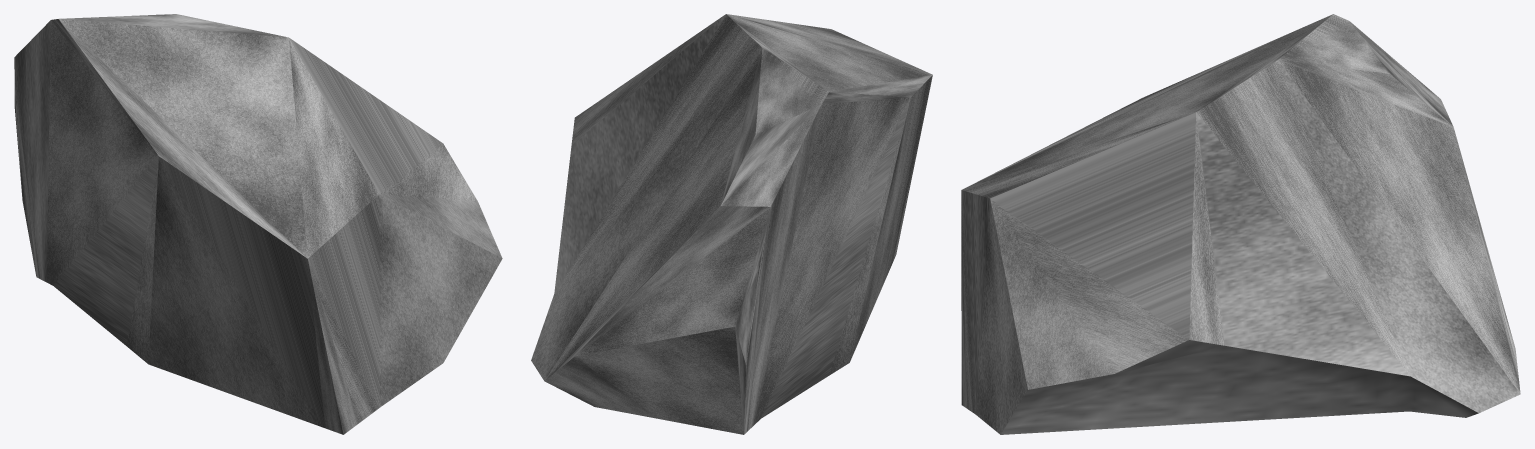
Rendered from body_cell_035.fbx.
The picture shows the model from 3 angles, left to right: view 1: azimuth 30°, elevation 25°; view 2: azimuth 150°, elevation 25°; view 3: azimuth 270°, elevation 25°; orthographic projection. The views are drawn at different scales.
Parts seen in each view (by area): view 1: body_cell.035; view 2: body_cell.035; view 3: body_cell.035.
Part boxes in pixels (box(x1,y1,x2,y2)): body_cell.035: box(14, 14, 502, 434); body_cell.035: box(531, 14, 932, 434); body_cell.035: box(961, 14, 1520, 434).
Bounding box in the file's own units: 42.96 × 40.96 × 61.82.
